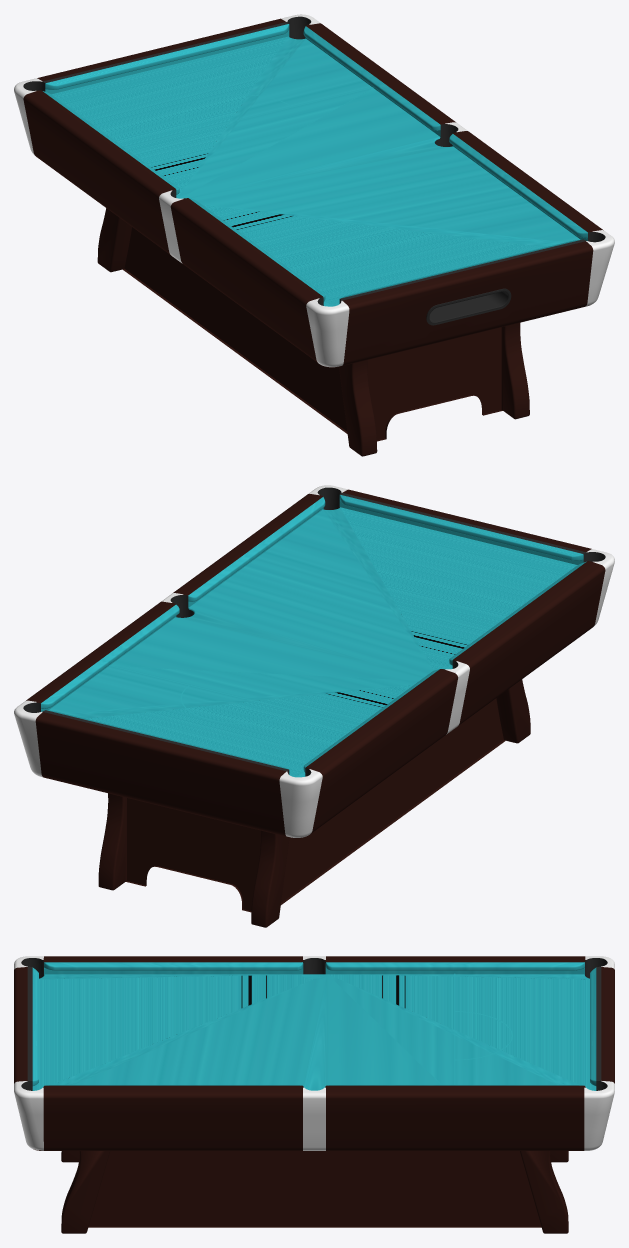
Rendered from Meja.fbx.
3 views of the same model, one above another, from view 1: azimuth 30°, elevation 25°; view 2: azimuth 150°, elevation 25°; view 3: azimuth 270°, elevation 25° (orthographic). The views are drawn at different scales.
Parts seen in each view (by area): view 1: Cube, Plan.007, Plan.005, Plan.001, Plan.002, Plan.003; view 2: Cube, Plan.007, Plan.006, Plan.003, Plan.004, Plan.001; view 3: Cube, Plan.007, Plan.002, Plan.004.
Part boxes in pixels (x1,y1,x2,y2): Cube: (14, 14, 614, 367); Plan.007: (122, 227, 347, 433); Plan.005: (367, 327, 502, 441); Plan.001: (339, 360, 377, 456); Plan.002: (503, 323, 529, 419); Plan.003: (97, 208, 131, 272); Cube: (14, 485, 614, 838); Plan.007: (280, 698, 505, 905); Plan.006: (125, 797, 260, 912); Plan.003: (251, 830, 289, 927); Plan.004: (98, 793, 125, 890); Plan.001: (496, 679, 530, 743); Cube: (14, 956, 614, 1150); Plan.007: (88, 1151, 541, 1227); Plan.002: (61, 1151, 110, 1233); Plan.004: (520, 1151, 568, 1233).
Size of the model in its own units: 117 by 66.78 by 212.
5 materials, 2 textured.
